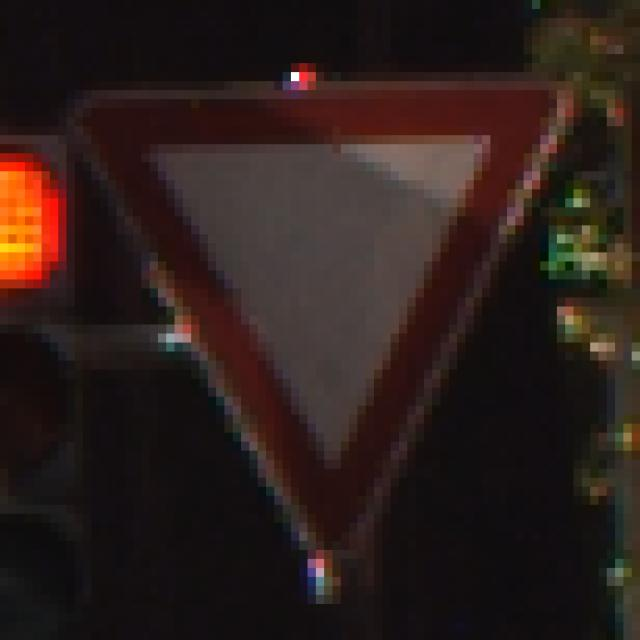Give Way: (59, 55, 591, 587)
